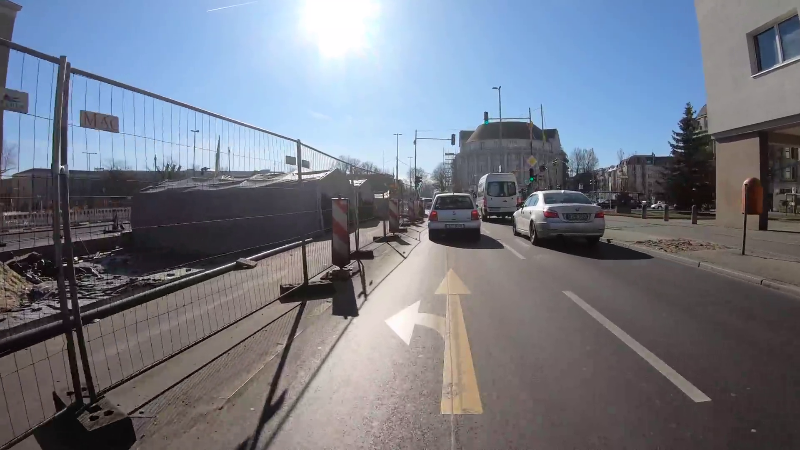Plate: (564, 211, 591, 221)
